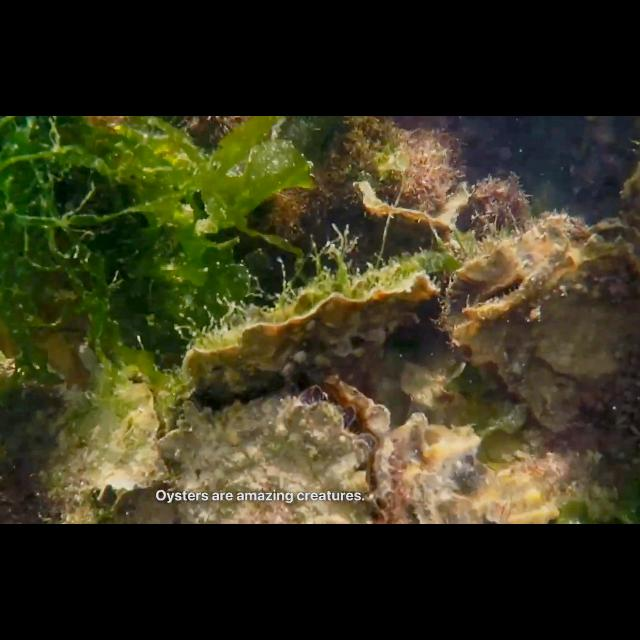Oyster-Closed: (181, 272, 443, 408)
Oyster-Open: (444, 212, 640, 436), (158, 379, 392, 525), (374, 412, 502, 524), (80, 380, 170, 514), (352, 179, 456, 249)
